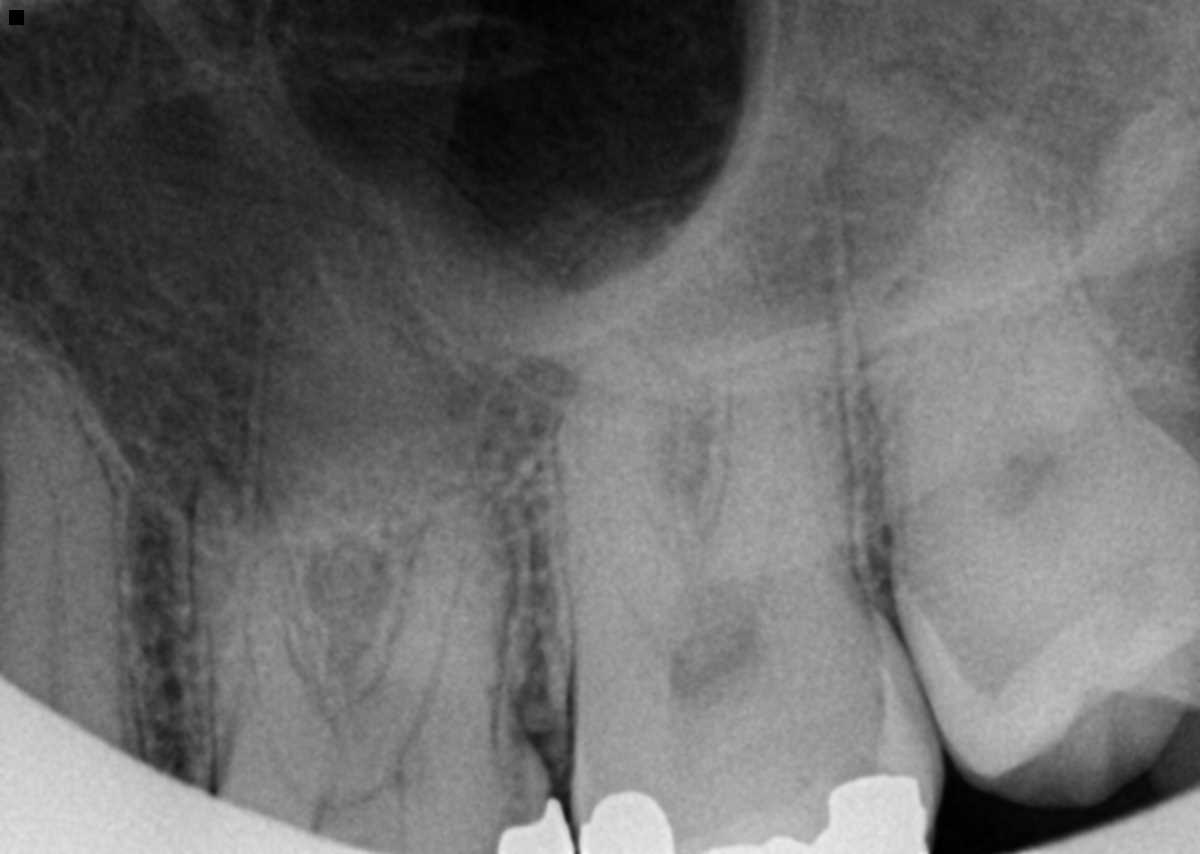Apical Lesion: (150, 391, 289, 514)
Distal Canal: (413, 533, 468, 725), (758, 405, 787, 575)
Distal Root: (708, 280, 862, 586), (936, 161, 1115, 404), (370, 484, 515, 734)
Main Root: (0, 358, 131, 744)
Mesial Canal: (253, 669, 291, 772)
Mesial Root: (189, 463, 333, 782), (554, 337, 689, 636)
Palatal Root: (233, 272, 515, 772), (553, 210, 855, 649), (843, 69, 1120, 525)
